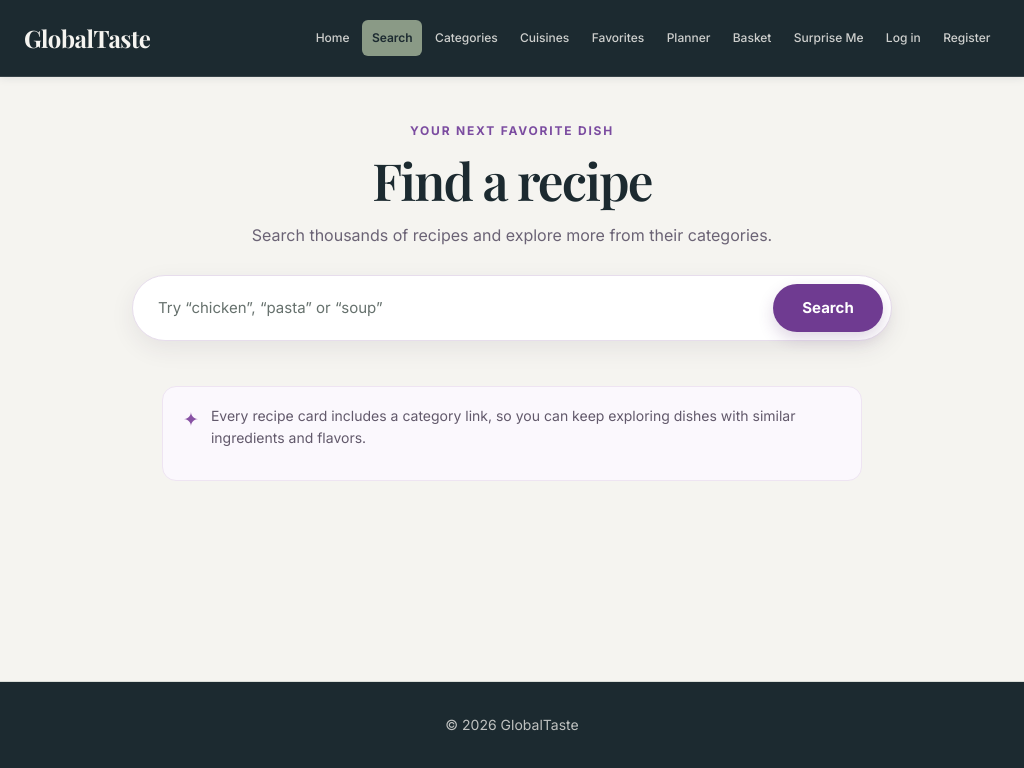
it: application user flows › shows search validation and no-results feedback
This screenshot has width=1024, height=768.
Click the button "Search".
click(828, 308)  # box [773, 284, 883, 332]
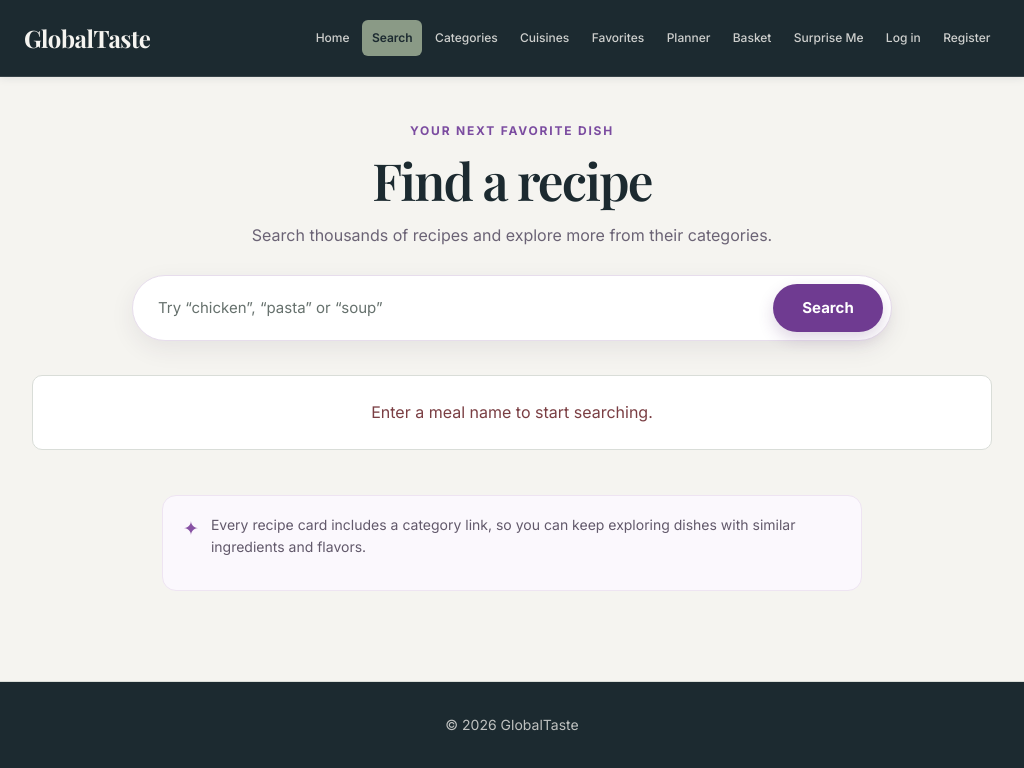
Result: the message shows "Enter a meal name to start searching" at [371, 402, 653, 422]
Type "no-such-meal" into the search field named "Search meals".
click(452, 308); type("no-such-meal")  # box [141, 284, 763, 332]
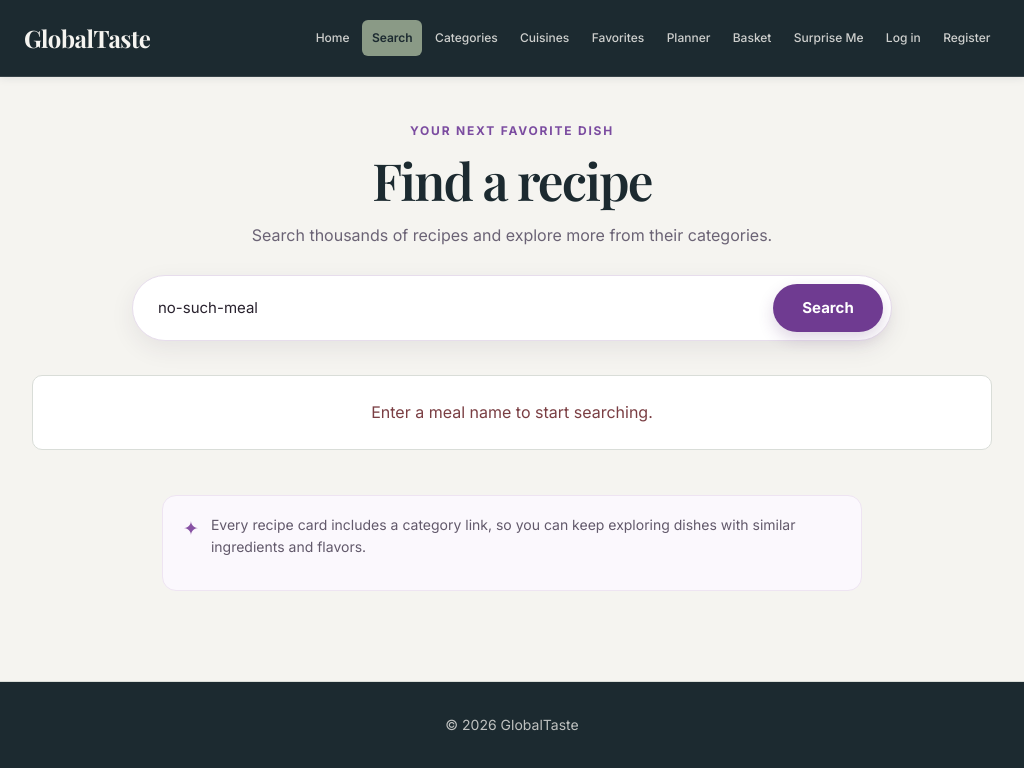
Click the button "Search".
click(828, 308)  # box [773, 284, 883, 332]
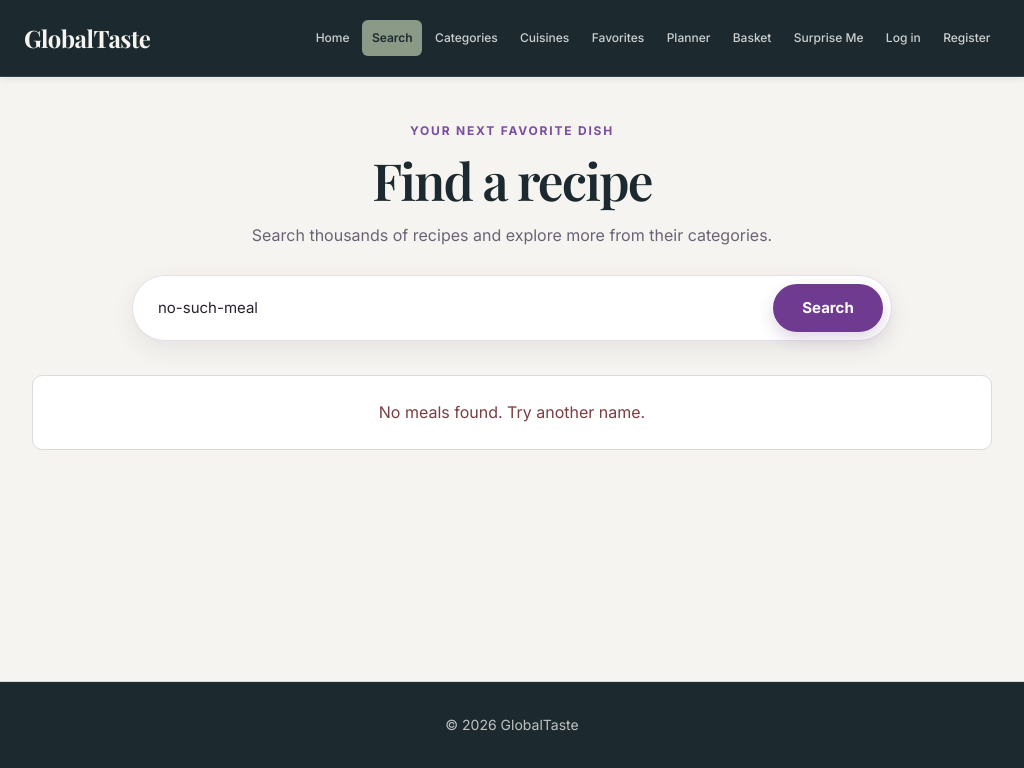
Result: the message shows "No meals found. Try another name" at [379, 402, 645, 422]
